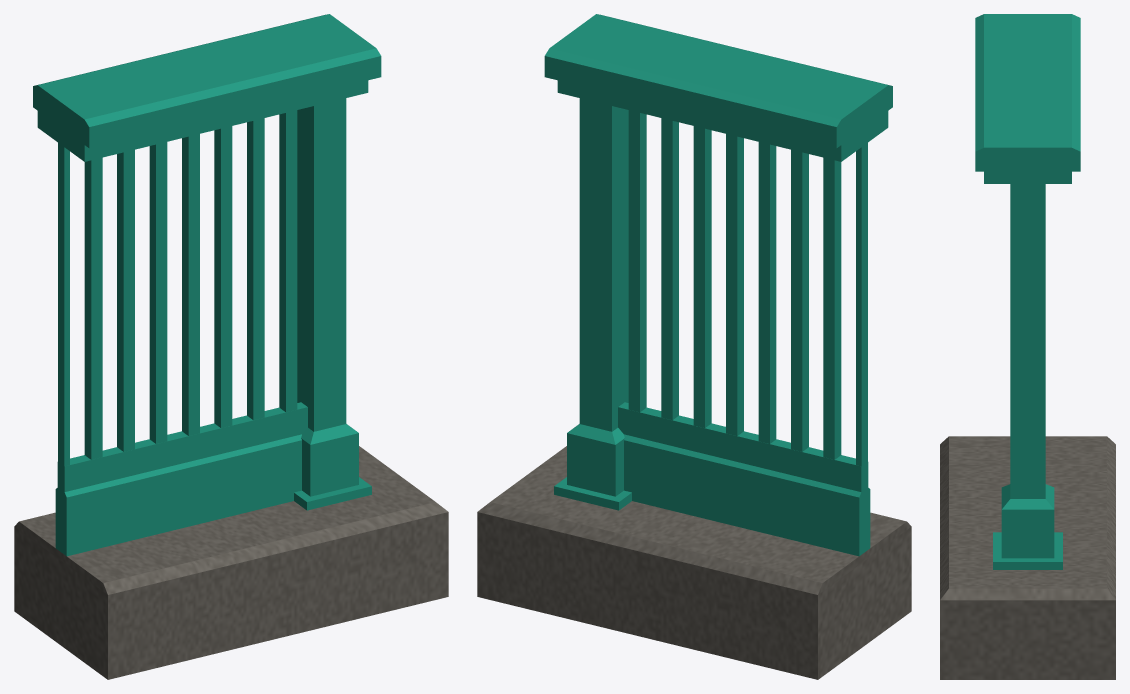
The model's file is nyc_subway_entrance_1_fence_2.obj.
3 renders of one model, left to right at view 1: azimuth 30°, elevation 25°; view 2: azimuth 150°, elevation 25°; view 3: azimuth 270°, elevation 25°, orthographic. The views are drawn at different scales.
Parts seen in each view (by area): view 1: cube; view 2: cube; view 3: cube.
Part boxes in pixels (x1,y1,x2,y2): cube: (14, 14, 448, 679); cube: (477, 14, 911, 679); cube: (940, 14, 1115, 679).
Size of the model in its own units: 0.6562 by 1 by 0.3125.
2 materials, 2 textured.
